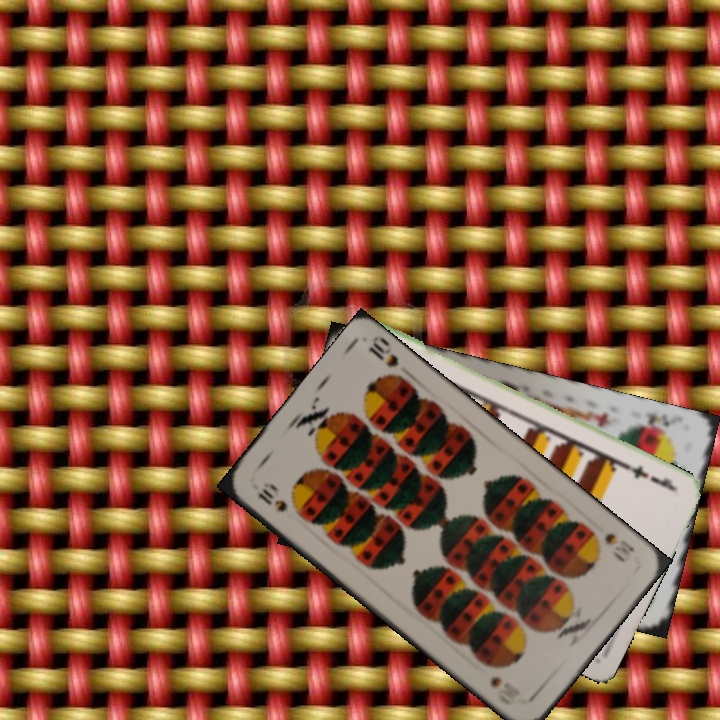E7: (622, 459, 678, 493)
S10: (252, 480, 301, 518), (600, 529, 637, 564)
SK: (642, 410, 681, 429)
